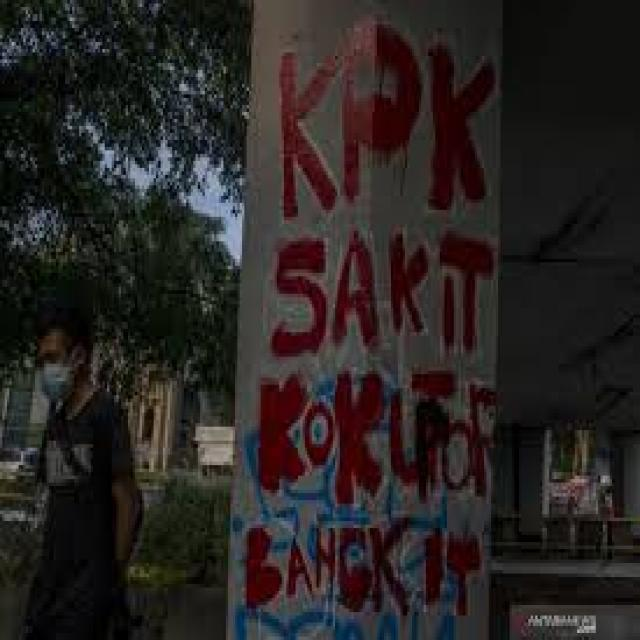-: (242, 16, 496, 612), (232, 376, 458, 640)
